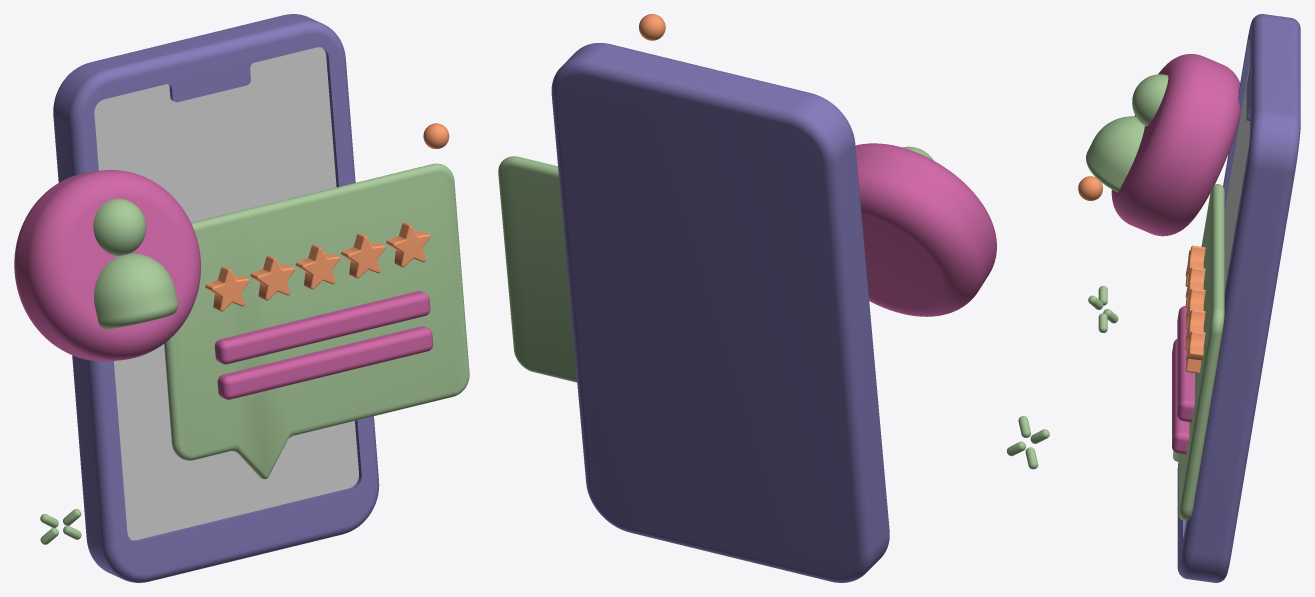
Rendered from e-commerce-review-3d-animated-icon-616000092230.glb.
The picture shows the model from 3 angles, left to right: view 1: azimuth 30°, elevation 25°; view 2: azimuth 150°, elevation 25°; view 3: azimuth 270°, elevation 25°; orthographic projection. The views are drawn at different scales.
Visible parts, largest first — view 1: Phone, Chat Box, Avatar Base, Avatar Icon, Line 2, Line 1, Star 2, Star 3, Star 1, Star 5, Star 4, Decorative 1; view 2: Phone, Avatar Base, Chat Box, Decorative 1; view 3: Phone, Avatar Base, Chat Box, Avatar Icon, Line 1, Line 2, Star 5, Decorative 1, Decorative 2, Star 2, Star 3, Star 1 (+1 smaller).
Boxes of the visible parts, x1,y1,x2,y2 form: Phone: (53, 14, 379, 582); Chat Box: (164, 163, 469, 479); Avatar Base: (14, 170, 200, 361); Avatar Icon: (93, 198, 178, 329); Line 2: (217, 326, 433, 399); Line 1: (214, 291, 430, 364); Star 2: (250, 255, 294, 300); Star 3: (295, 244, 340, 289); Star 1: (205, 266, 249, 311); Star 5: (386, 222, 430, 267); Star 4: (341, 233, 385, 278); Decorative 1: (40, 509, 81, 544); Phone: (551, 43, 889, 582); Avatar Base: (855, 143, 996, 316); Chat Box: (498, 156, 577, 382); Decorative 1: (1007, 416, 1049, 469); Phone: (1177, 14, 1300, 582); Avatar Base: (1111, 54, 1240, 236); Chat Box: (1173, 184, 1224, 520); Avatar Icon: (1086, 74, 1168, 192); Line 1: (1177, 306, 1194, 422); Line 2: (1172, 339, 1189, 454); Star 5: (1185, 331, 1205, 373); Decorative 1: (1088, 286, 1118, 332); Decorative 2: (1078, 176, 1102, 200); Star 2: (1185, 267, 1205, 307); Star 3: (1185, 288, 1205, 329); Star 1: (1185, 245, 1205, 286).
Bounding box in the file's own units: 2.29 × 2.26 × 0.9711.
